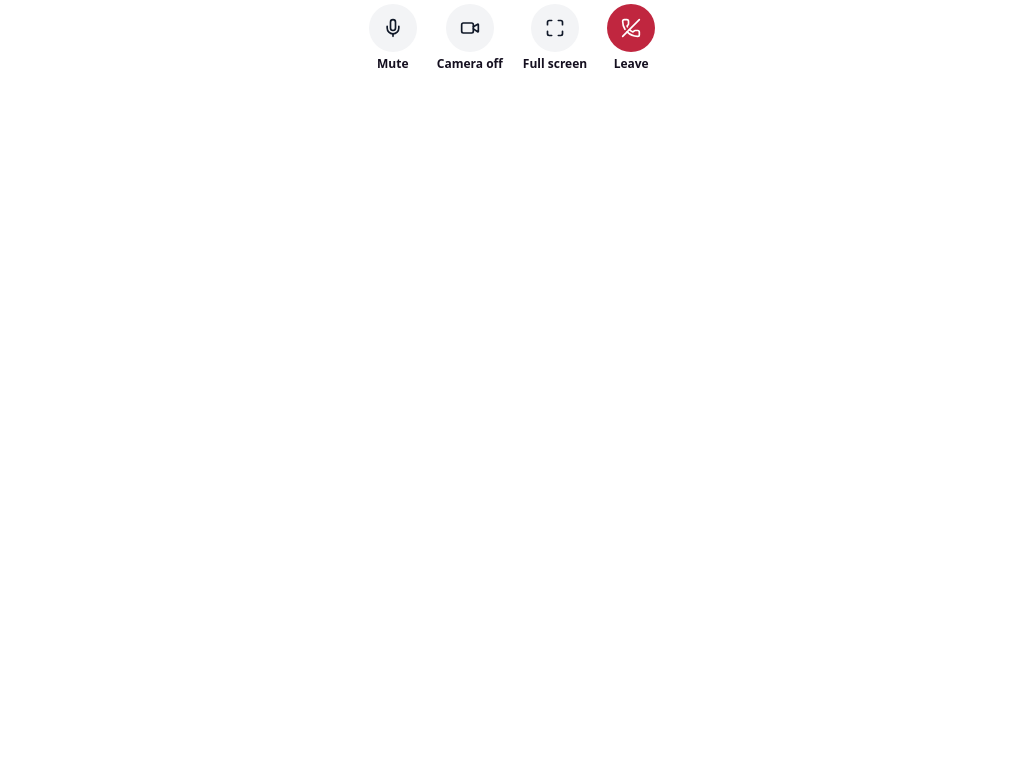
it: ControlBar › asks before leaving, and Stay keeps the call
Later steps or results of the test are not shown.
Click the button "Leave" at (631, 38), box 603,0 -> 659,76
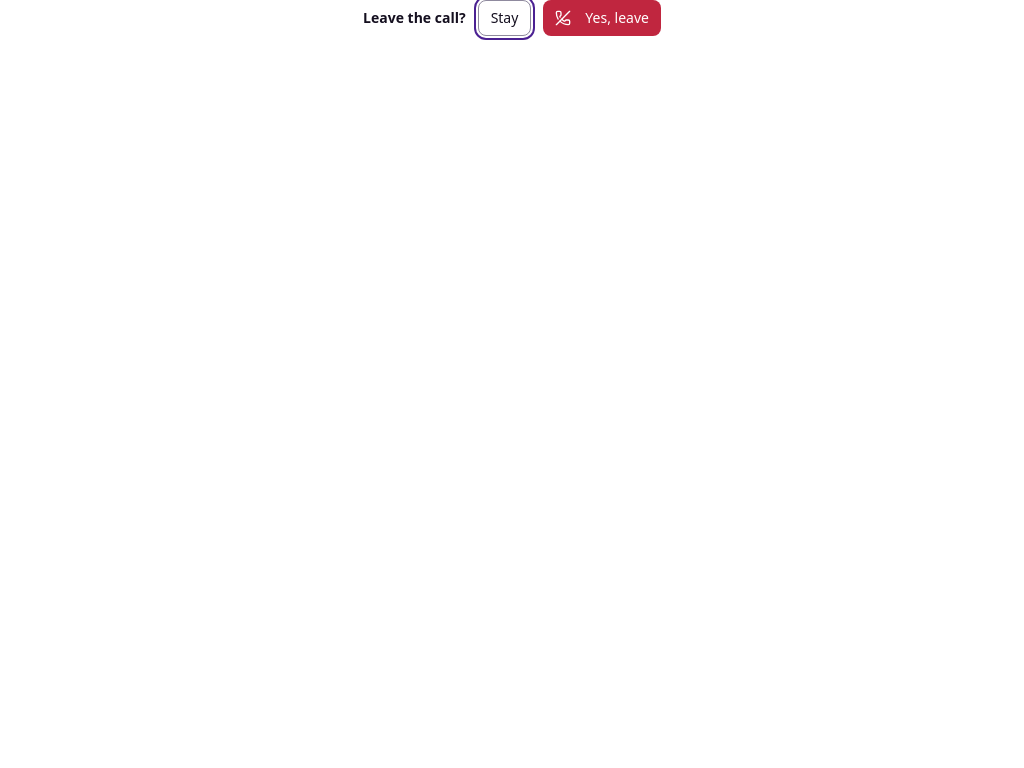
expect the text "Leave the call?" is shown: met, box 363,8 -> 466,28
